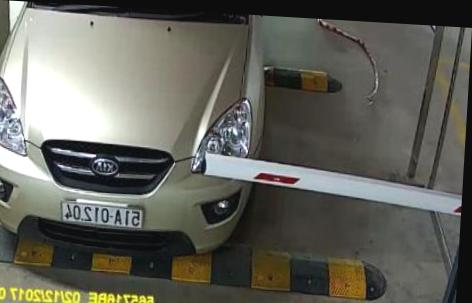License_Plate: (54, 194, 153, 230)
